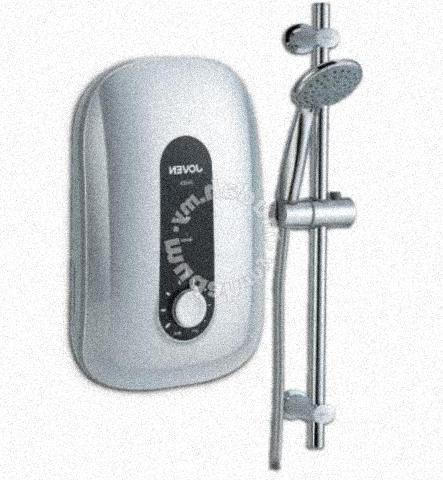Ducha: (48, 0, 364, 479)
